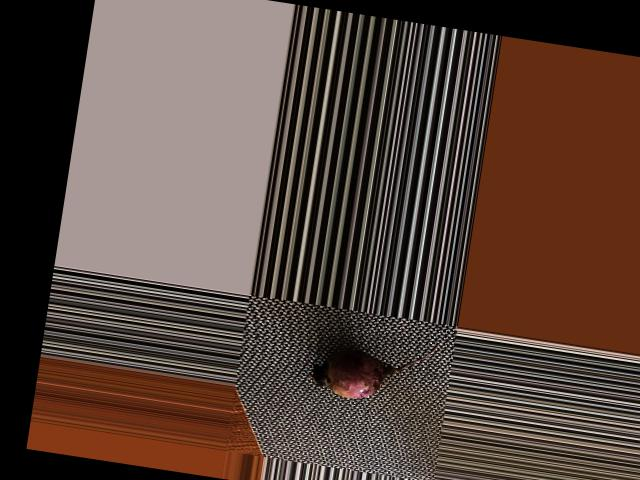beet: (306, 324, 439, 409)
